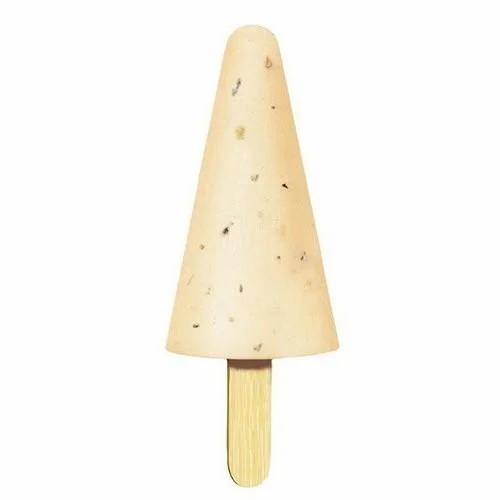Kulfi: (166, 22, 342, 360)
